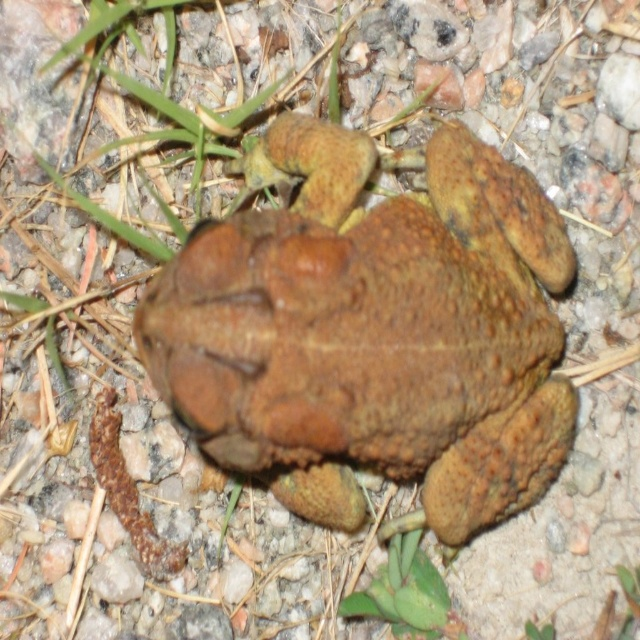Frog: (130, 108, 581, 570)
